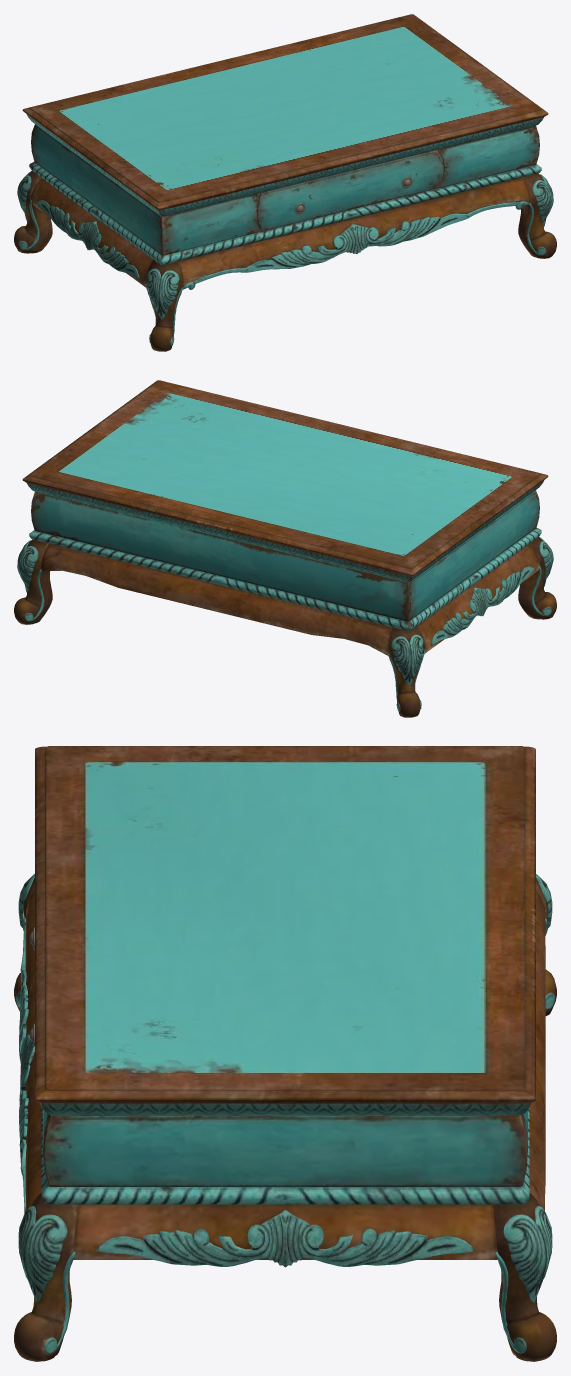
3 views of the same model, one above another, from view 1: azimuth 30°, elevation 25°; view 2: azimuth 150°, elevation 25°; view 3: azimuth 270°, elevation 25° (orthographic). The views are drawn at different scales.
Visible parts, largest first — view 1: CoffeeTable_01; view 2: CoffeeTable_01; view 3: CoffeeTable_01.
Part boxes in pixels (<box>): CoffeeTable_01: <box>14,14,556,351</box>; CoffeeTable_01: <box>14,380,556,717</box>; CoffeeTable_01: <box>14,746,556,1361</box>.
Size of the model in its own units: 1.54 by 0.5232 by 0.9728.
Materials: 1 (1 with a texture image).
